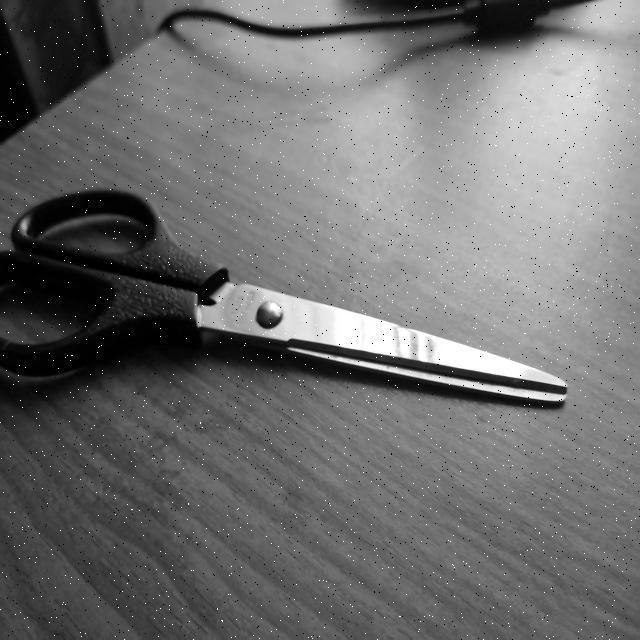scissors: (0, 179, 583, 442)
